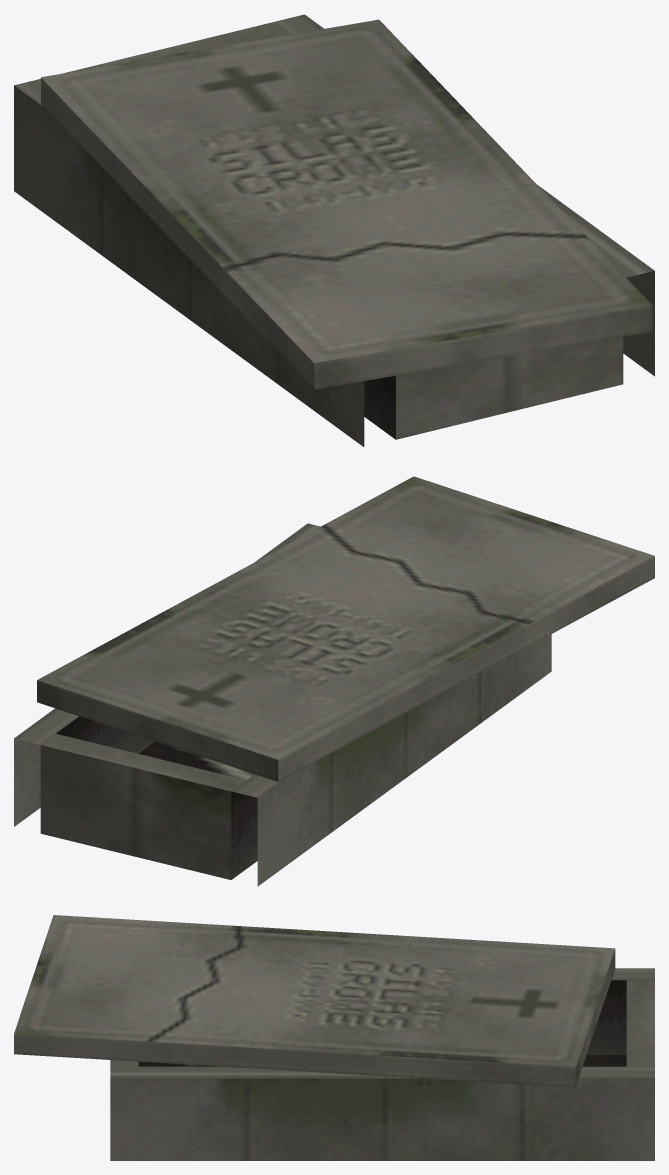
Rendered from gravestone_slab.obj.
The picture shows the model from 3 angles, top to bottom: view 1: azimuth 30°, elevation 25°; view 2: azimuth 150°, elevation 25°; view 3: azimuth 270°, elevation 25°; orthographic projection. The views are drawn at different scales.
Visible parts, largest first — view 1: gravestone_slab; view 2: gravestone_slab; view 3: gravestone_slab.
Part boxes in pixels (<box>): gravestone_slab: <box>14,14,654,446</box>; gravestone_slab: <box>14,476,654,886</box>; gravestone_slab: <box>14,915,654,1160</box>.
Size of the model in its own units: 1.27 by 0.4 by 2.26.
1 material, 1 textured.
